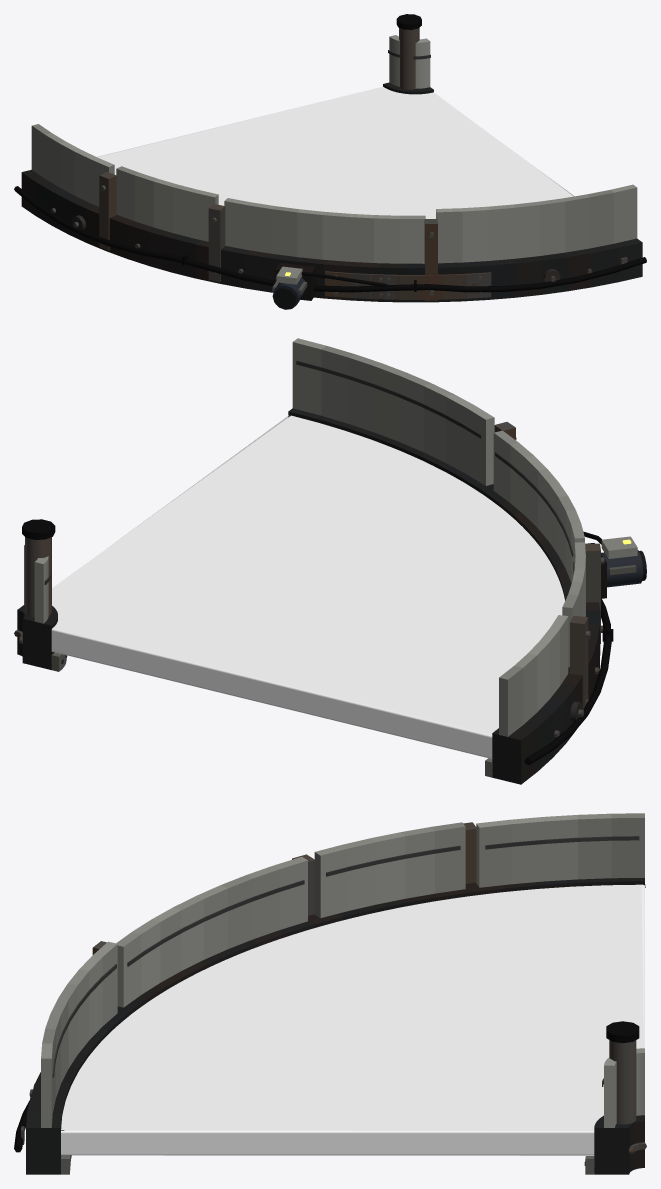
The model's file is conveyor_turn_right.glb.
3 renders of one model, top to bottom at view 1: azimuth 30°, elevation 25°; view 2: azimuth 150°, elevation 25°; view 3: azimuth 270°, elevation 25°, orthographic. The views are drawn at different scales.
Visible parts, largest first — view 1: Frame, Belt; view 2: Belt, Frame; view 3: Belt, Frame.
Boxes of the visible parts, box(x1,y1,x2,y2) form: Frame: box(14, 14, 646, 309); Belt: box(97, 86, 574, 218); Belt: box(51, 415, 564, 758); Frame: box(14, 338, 646, 784); Belt: box(61, 884, 644, 1155); Frame: box(14, 813, 646, 1174).
Bounding box in the file's own units: 1.99 × 0.475 × 1.99.
